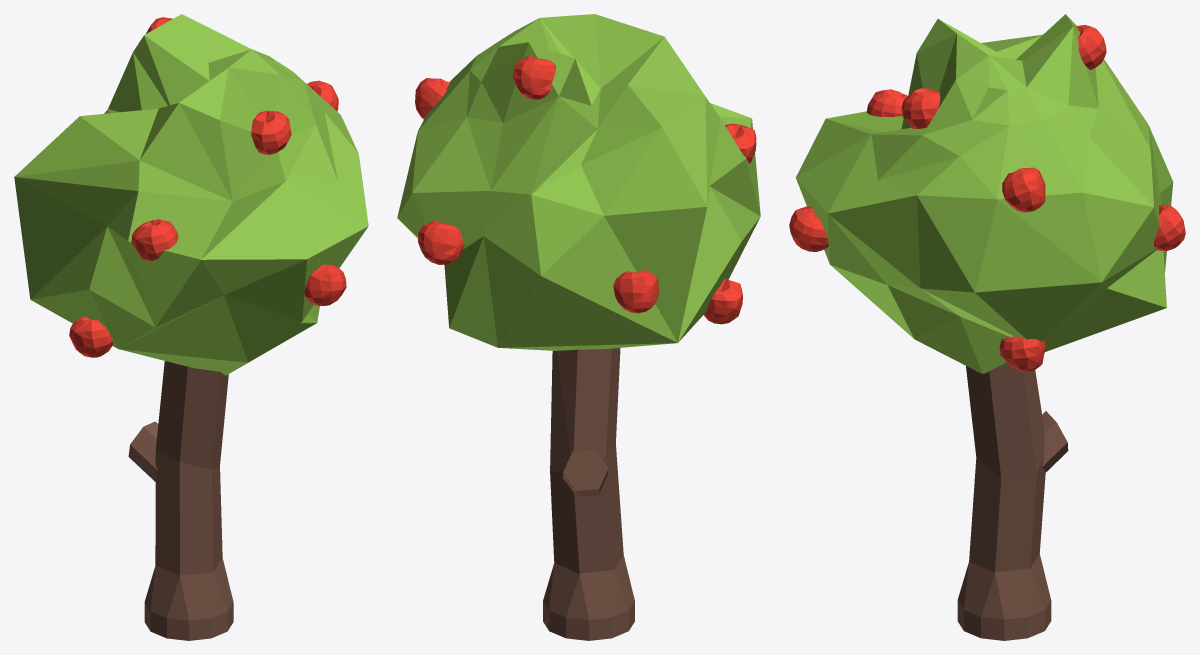
The model's file is AppleTree.glb.
3 renders of one model, left to right at view 1: azimuth 30°, elevation 25°; view 2: azimuth 150°, elevation 25°; view 3: azimuth 270°, elevation 25°, orthographic. The views are drawn at different scales.
Visible parts, largest first — view 1: Node; view 2: Node; view 3: Node.
Boxes of the visible parts, <box> form: Node: <box>14,14,368,640</box>; Node: <box>397,14,760,640</box>; Node: <box>789,14,1185,640</box>.
Bounding box in the file's own units: 0.1594 × 0.2868 × 0.1696.
